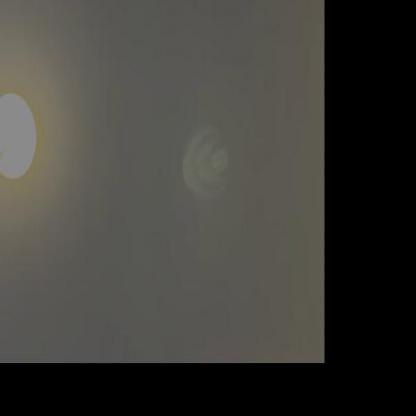light_on: (0, 77, 48, 195)
